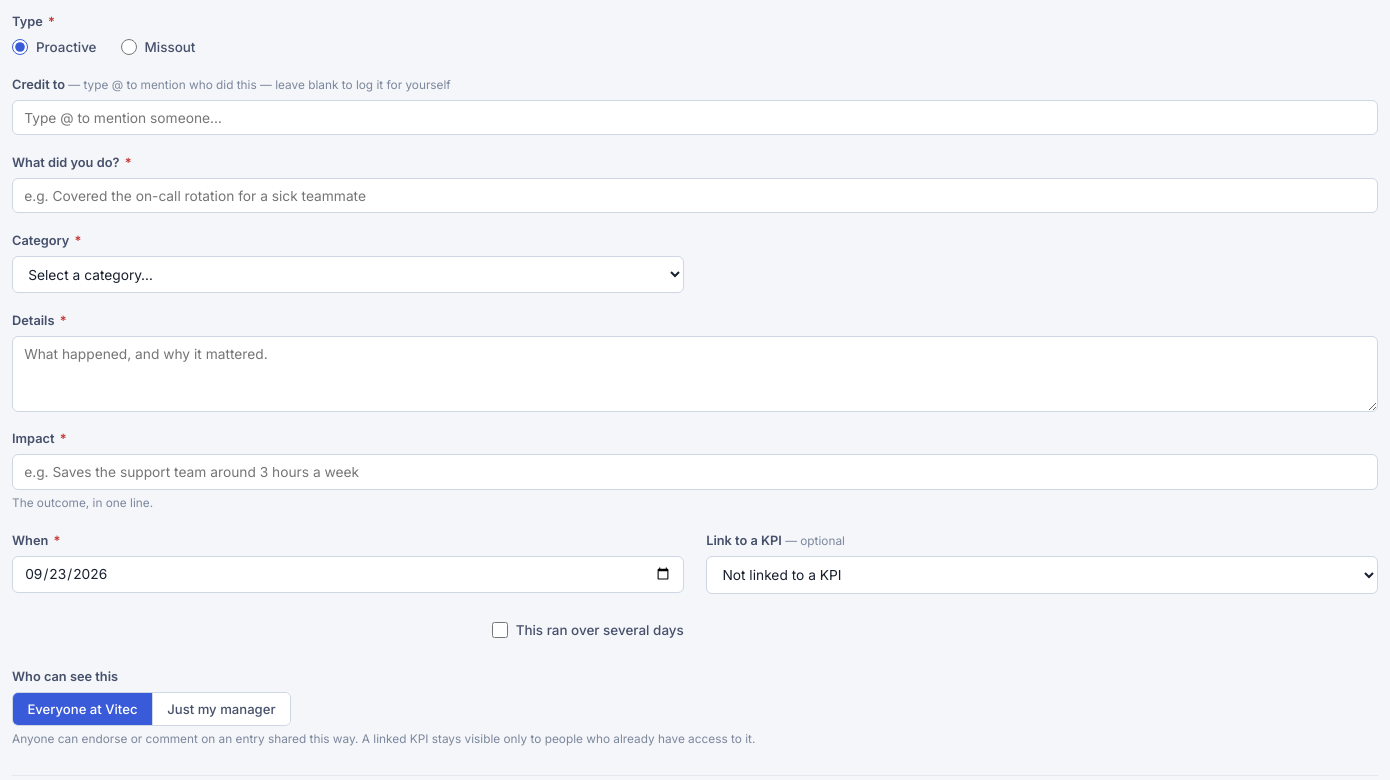
Test: ProactiveWorkForm — Credit to @mention › offers yourself in the mention suggestions, so you can be credited alongside someone else
Type "@e" into the field with placeholder "Type @ to mention someone…". click: (695,118)
box: 12,100 -> 1378,136
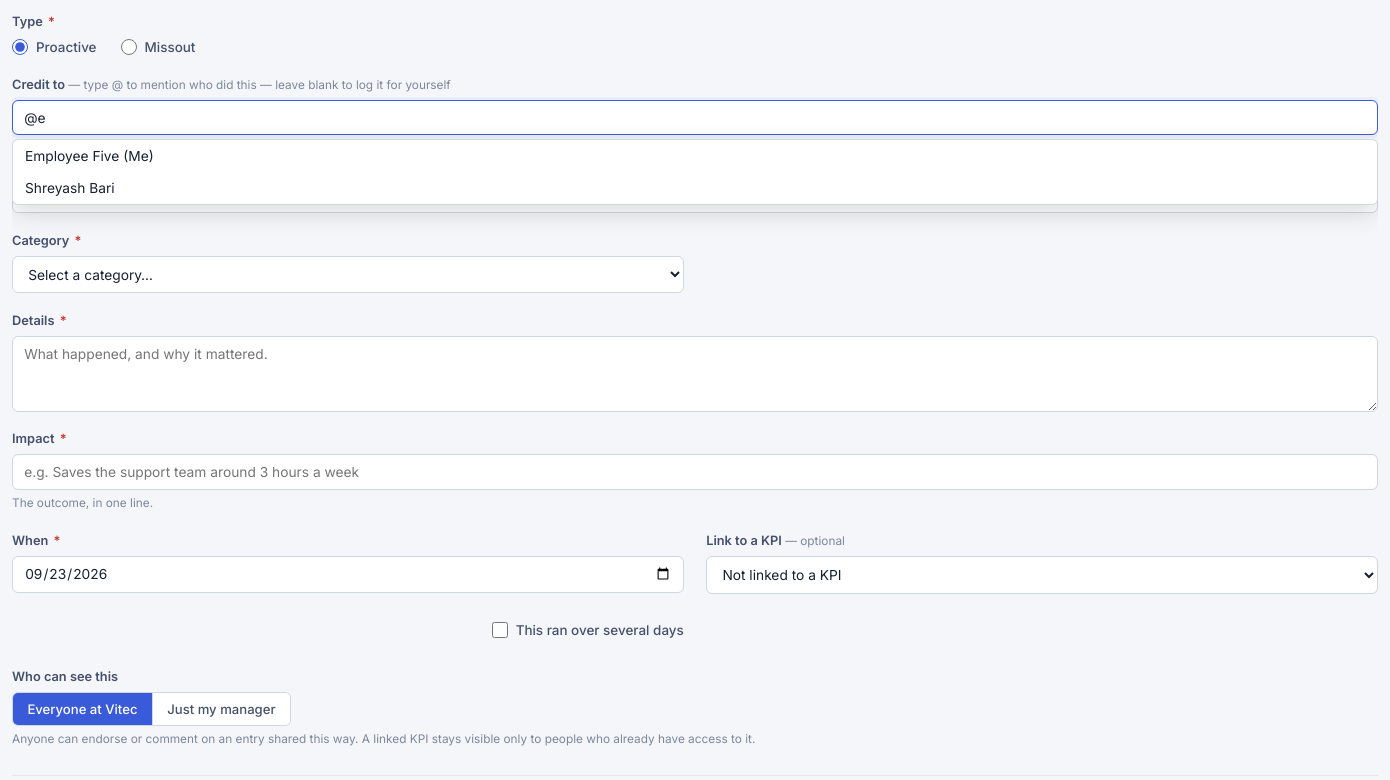
Expected: the button "Shreyash Bari" is shown, 13,172 -> 1377,204
Expected: the button "Employee Five (Me)" is shown, 13,140 -> 1377,172
